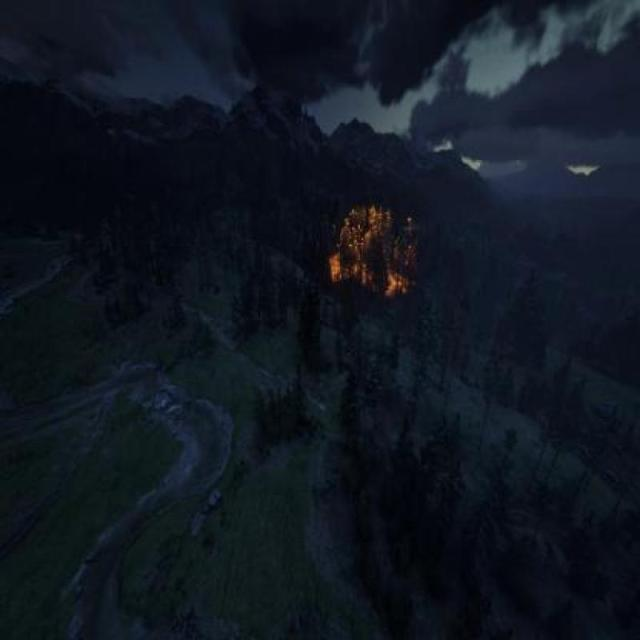Fire: (320, 189, 412, 289)
